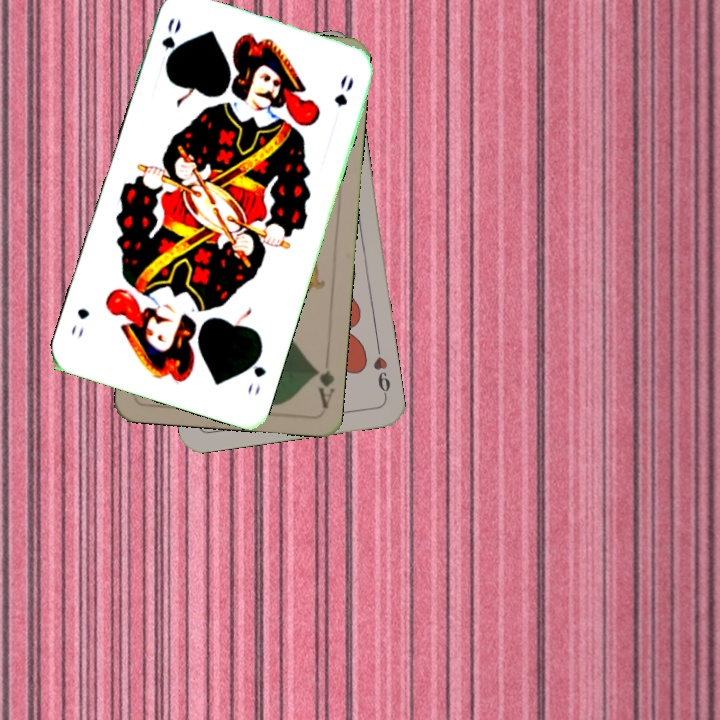GA: (310, 363, 337, 411)
GO: (157, 14, 184, 73), (243, 345, 269, 397)
H9: (369, 342, 393, 401)
